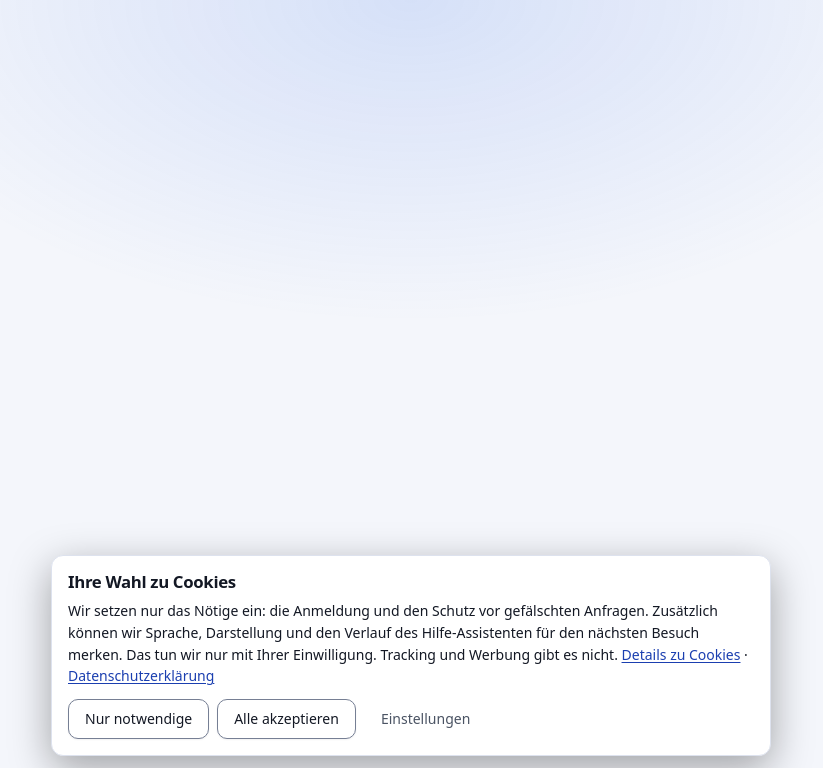
Test: CookieConsent › the necessary entry cannot be switched off
Click the button "Einstellungen" at (426, 719), box [364, 699, 487, 739]
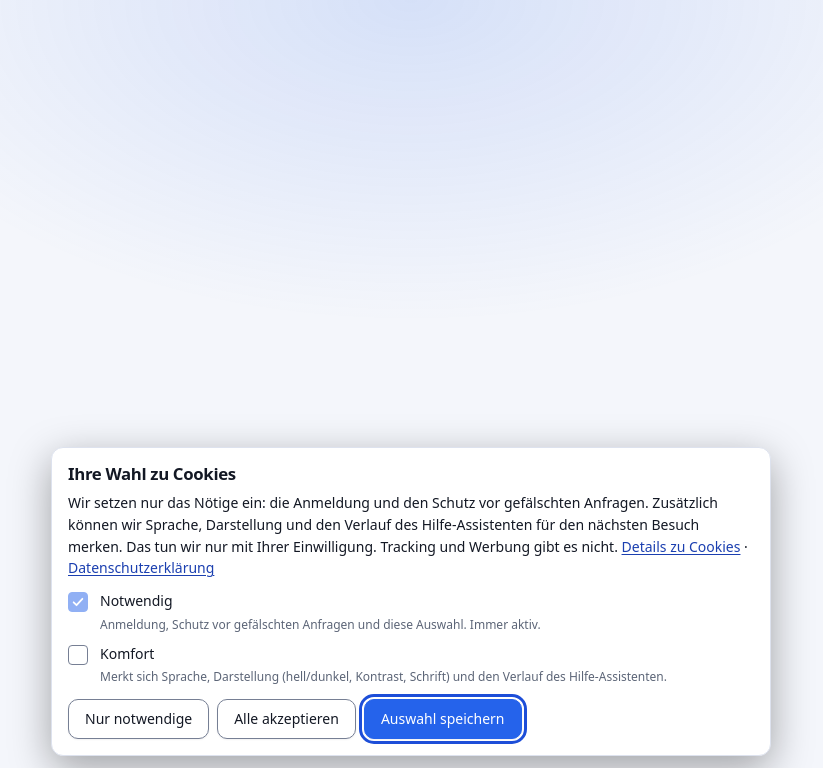
Result: the checkbox labelled "Notwendig" is disabled at [68, 592, 88, 612]
Result: the checkbox labelled "Notwendig" is checked at [68, 592, 88, 612]
